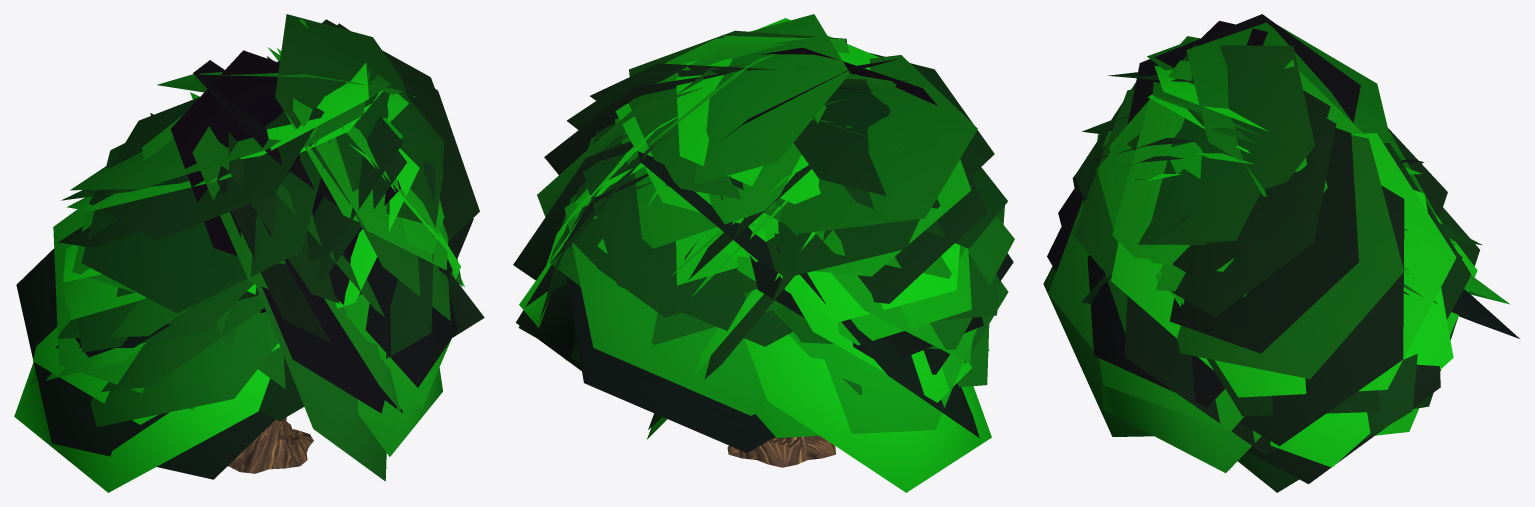
The model's file is FantasyBush1.fbx.
3 renders of one model, left to right at view 1: azimuth 30°, elevation 25°; view 2: azimuth 150°, elevation 25°; view 3: azimuth 270°, elevation 25°, orthographic. The views are drawn at different scales.
Parts seen in each view (by area): view 1: fantasyleaf2_alpha_1, tree2_0; view 2: fantasyleaf2_alpha_1, tree2_0; view 3: fantasyleaf2_alpha_1.
Part boxes in pixels (x1,y1,x2,y2): fantasyleaf2_alpha_1: [14, 14, 484, 492]; tree2_0: [228, 417, 313, 473]; fantasyleaf2_alpha_1: [513, 14, 1014, 492]; tree2_0: [727, 436, 835, 467]; fantasyleaf2_alpha_1: [1043, 14, 1519, 492].
Size of the model in its own units: 260 by 249 by 266.
Materials: 1 (1 with a texture image).
